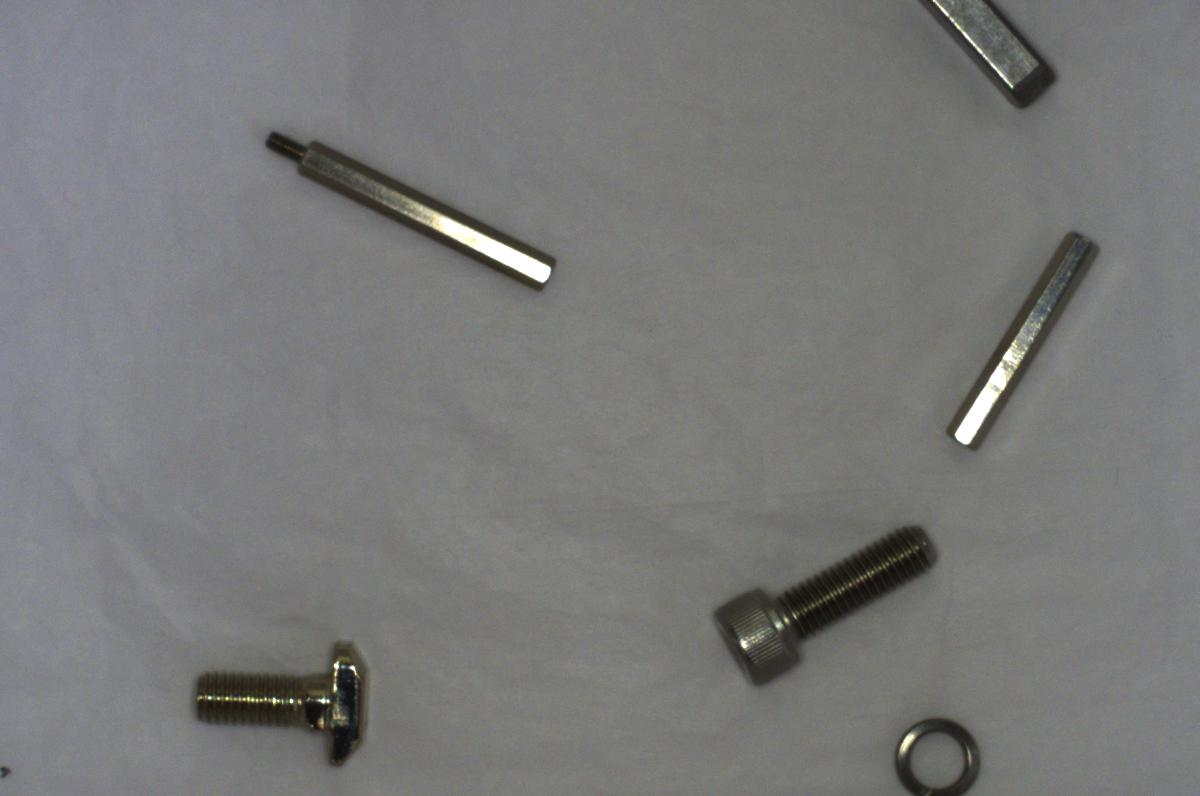Double hexagonal column: (925, 218, 1112, 463)
Hexagon screw: (699, 518, 945, 688)
Hexagonal steel column: (261, 123, 560, 305)
Keybar: (931, 0, 1065, 113)
Spring washer: (879, 703, 982, 795)
T-shaped screw: (180, 621, 382, 768)
